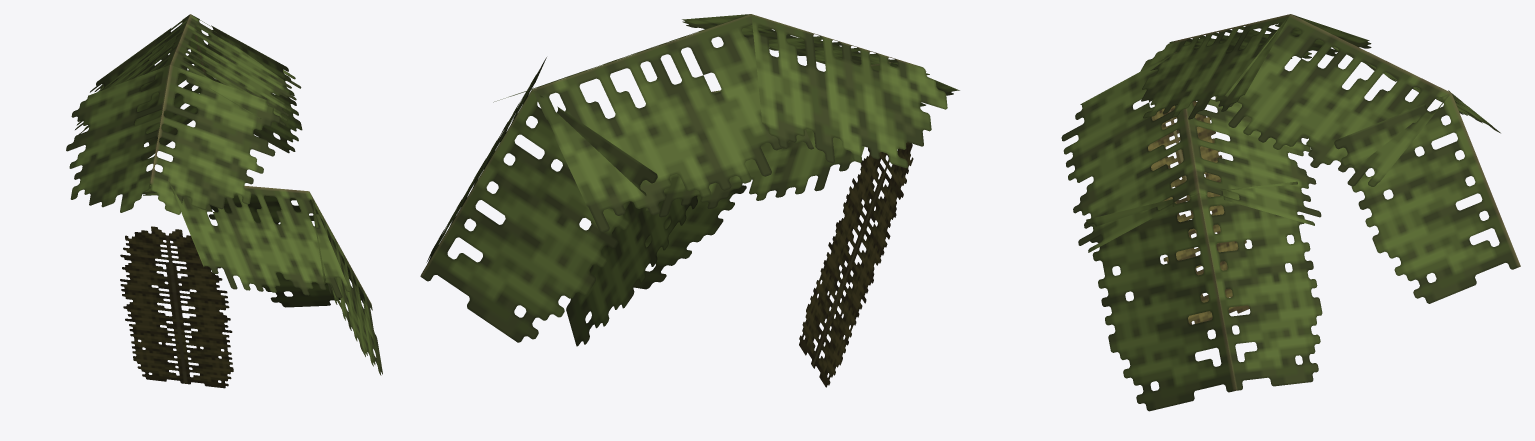
File: coconut_palm_corner_1.obj
3 views of the same model, side by side, from view 1: azimuth 30°, elevation 25°; view 2: azimuth 150°, elevation 25°; view 3: azimuth 270°, elevation 25° (orthographic). The views are drawn at different scales.
Visible parts, largest first — view 1: cube.299; view 2: cube.299; view 3: cube.299.
Boxes of the visible parts, x1,y1,x2,y2 form: cube.299: (66,14,382,388); cube.299: (420,14,959,387); cube.299: (1061,14,1520,411).
Size of the model in its own units: 2.74 by 2.28 by 2.94.
